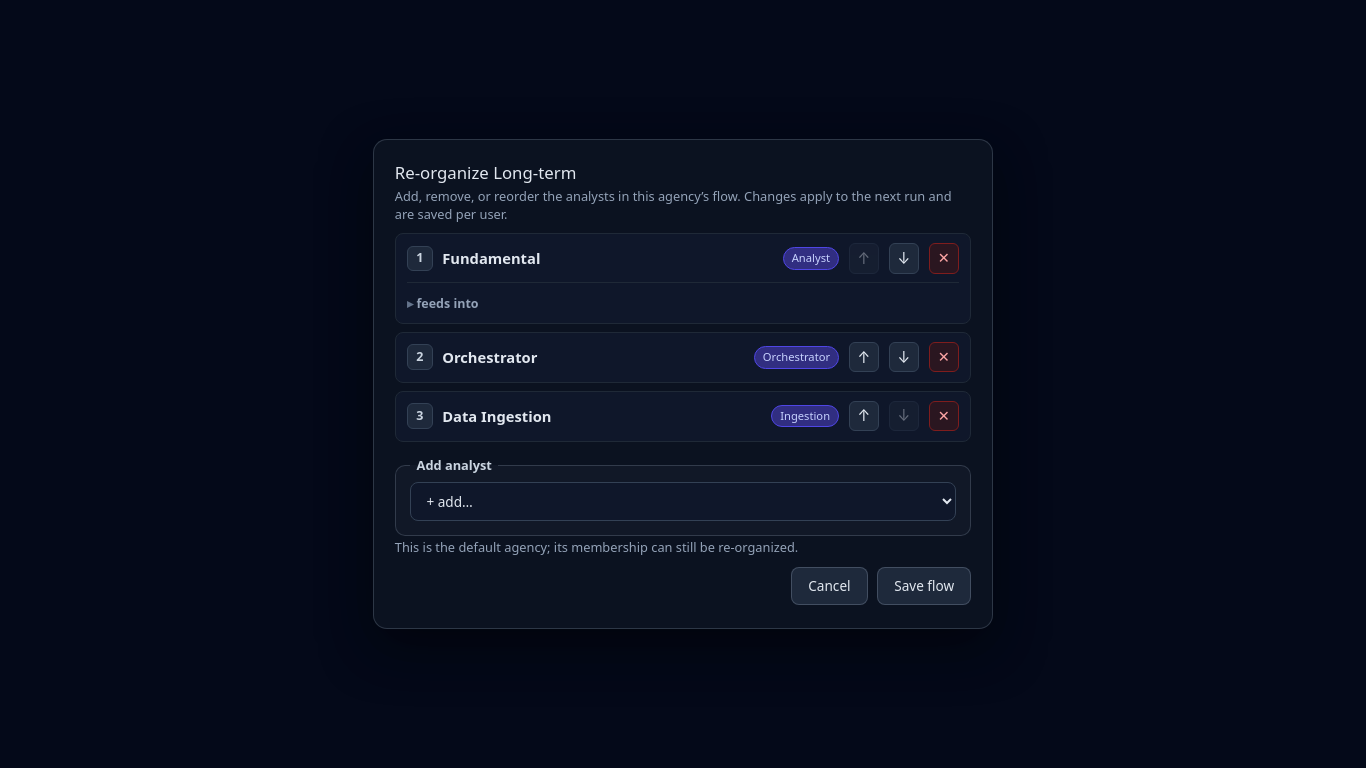
AgencyReorgDialog › removes a member and blocks save when empty
Expected: the text "Orchestrator" is shown, [442,347,537,367]
Click the button with test id "reorg-remove-": [944, 258] box [929,243,959,274]
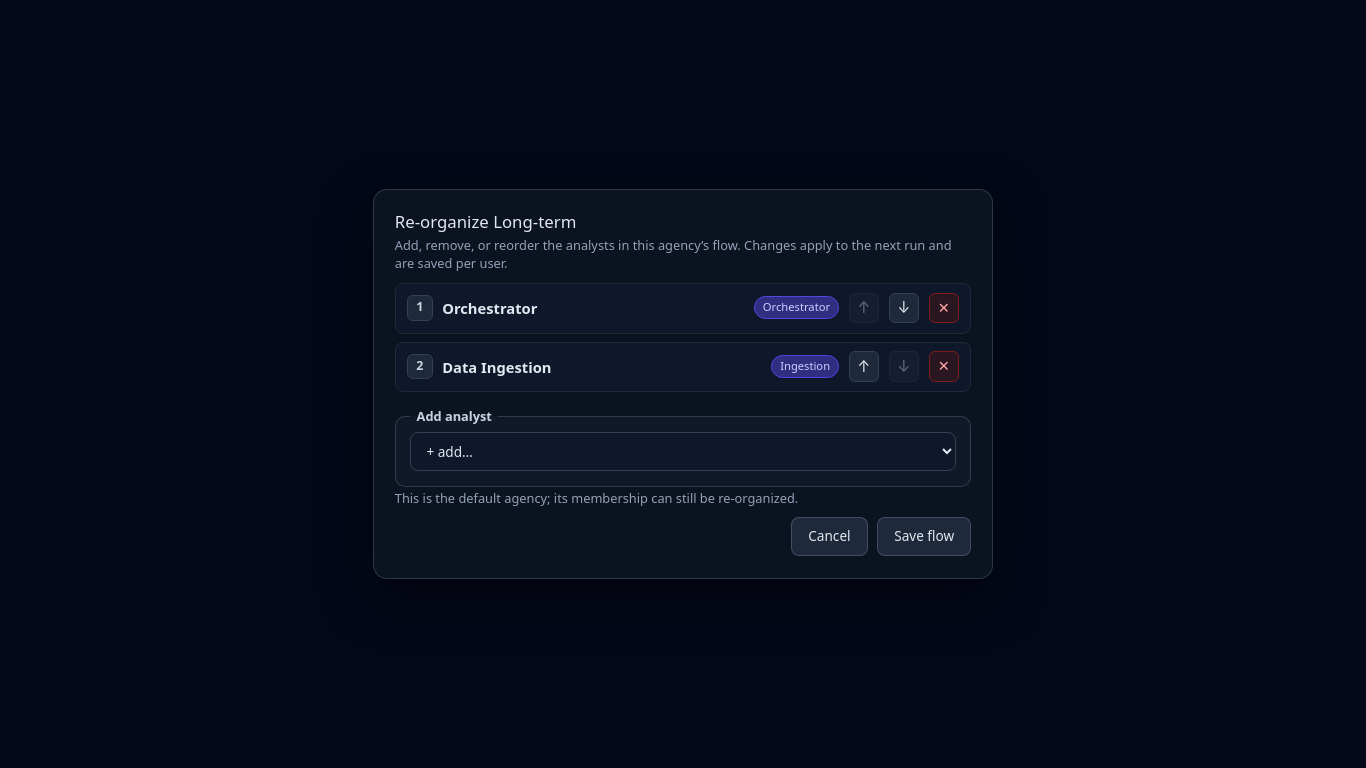
Click the button with test id "reorg-remove-": [944, 308] box [929,293,959,323]
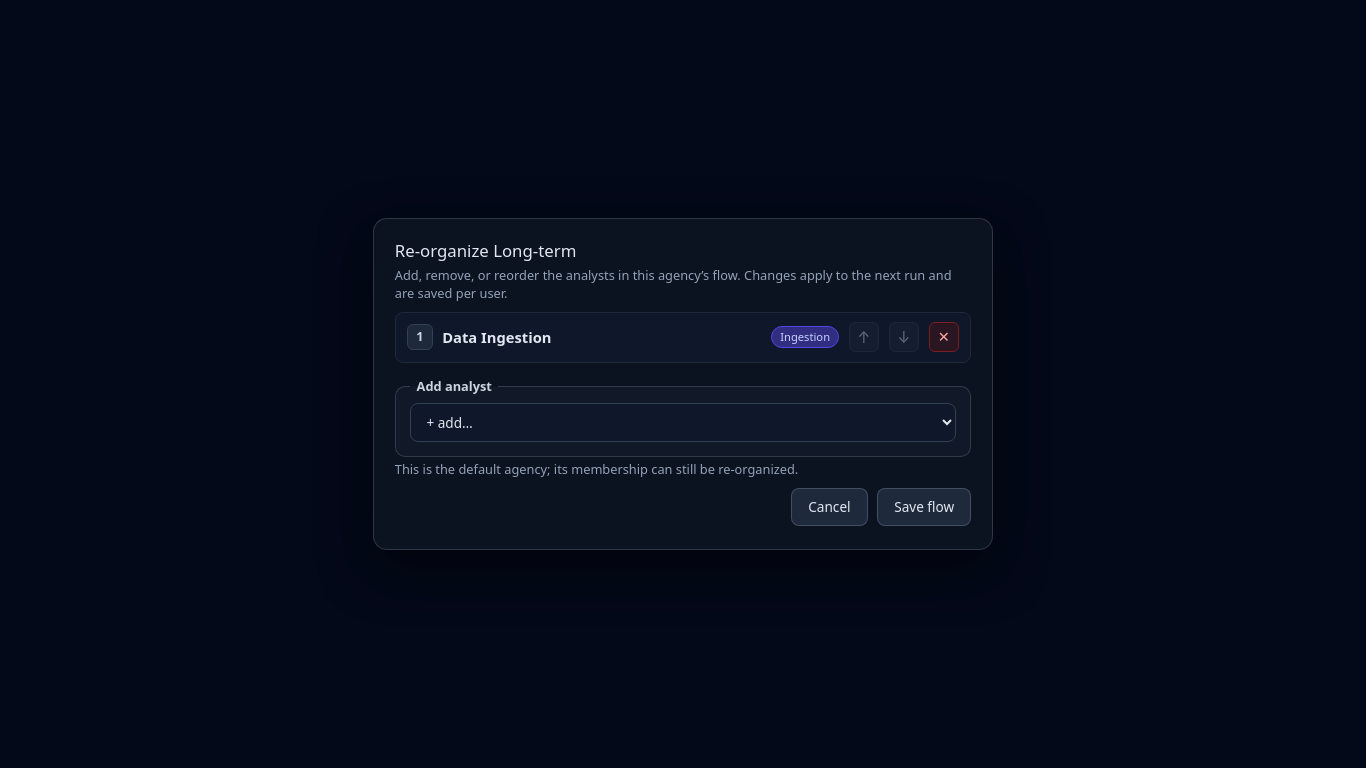
Click the button with test id "reorg-remove-": [944, 337] box [929,322,959,352]
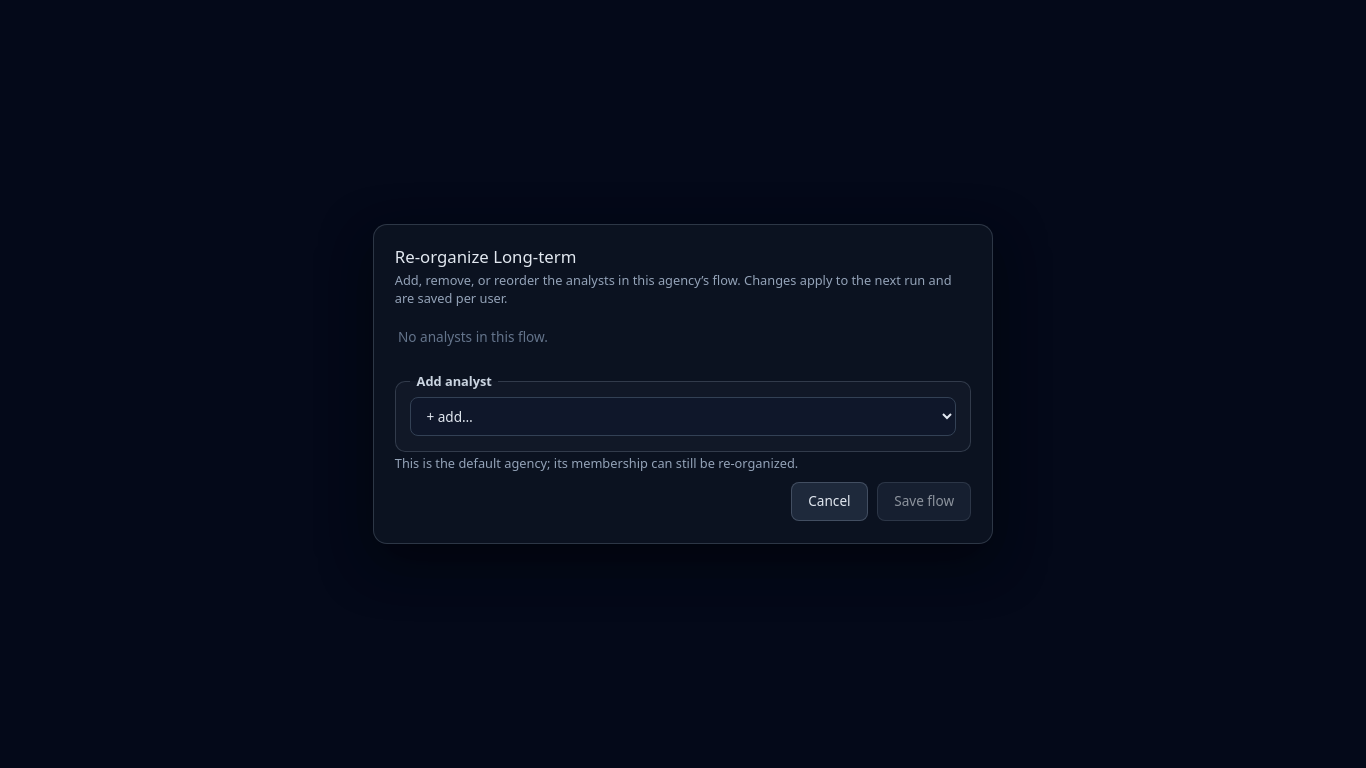
Expected: the button with test id "reorg-save" is disabled, [877,482,971,521]
